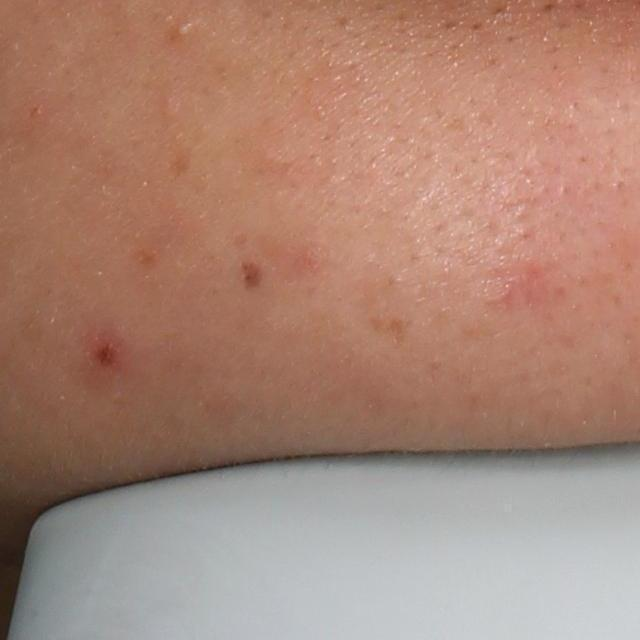comedo: (157, 93, 186, 120), (176, 21, 194, 38)
nevus: (235, 256, 266, 290)
papule: (87, 330, 124, 373)
